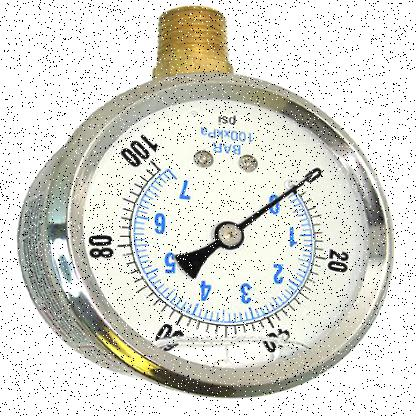needle: (236, 181, 305, 232)
